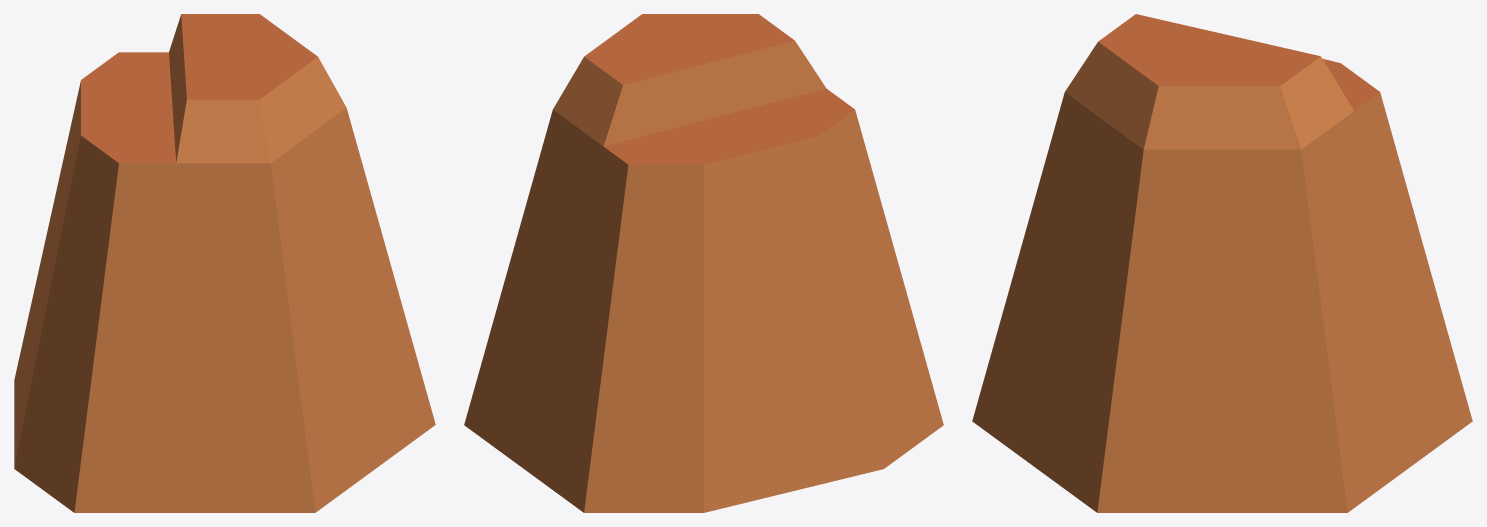
File: mesa_4.fbx
3 renders of one model, left to right at view 1: azimuth 30°, elevation 25°; view 2: azimuth 150°, elevation 25°; view 3: azimuth 270°, elevation 25°, orthographic. The views are drawn at different scales.
Visible parts, largest first — view 1: mesa_4; view 2: mesa_4; view 3: mesa_4.
Part boxes in pixels (<box>): mesa_4: <box>14,14,435,512</box>; mesa_4: <box>464,14,943,512</box>; mesa_4: <box>972,14,1472,512</box>.
Size of the model in its own units: 0.4562 by 0.4438 by 0.5268.
Materials: 1 (1 with a texture image).
